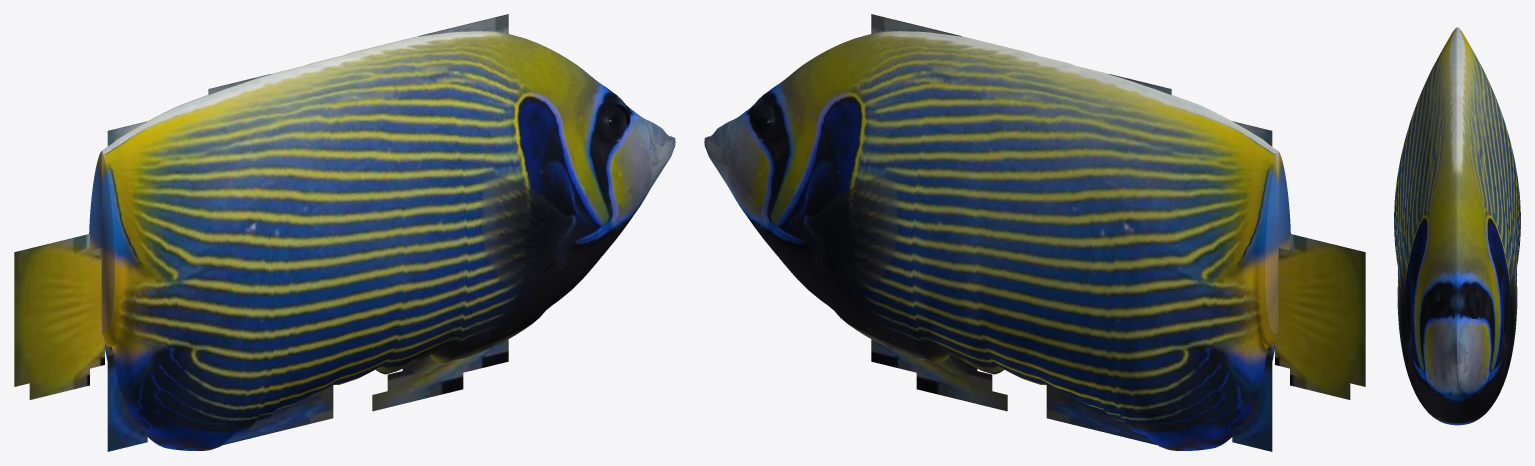
The model's file is real-pomacanthus_imperator.glb.
The picture shows the model from 3 angles, left to right: view 1: azimuth 30°, elevation 25°; view 2: azimuth 150°, elevation 25°; view 3: azimuth 270°, elevation 25°; orthographic projection. The views are drawn at different scales.
Visible parts, largest first — view 1: pomacanthus_imperator; view 2: pomacanthus_imperator; view 3: pomacanthus_imperator.
Boxes of the visible parts, box(x1,y1,x2,y2) form: pomacanthus_imperator: box(14, 14, 675, 451); pomacanthus_imperator: box(704, 14, 1365, 451); pomacanthus_imperator: box(1394, 27, 1520, 425).
Size of the model in its own units: 0.4007 by 0.2109 by 0.0798.
1 material, 1 textured.
